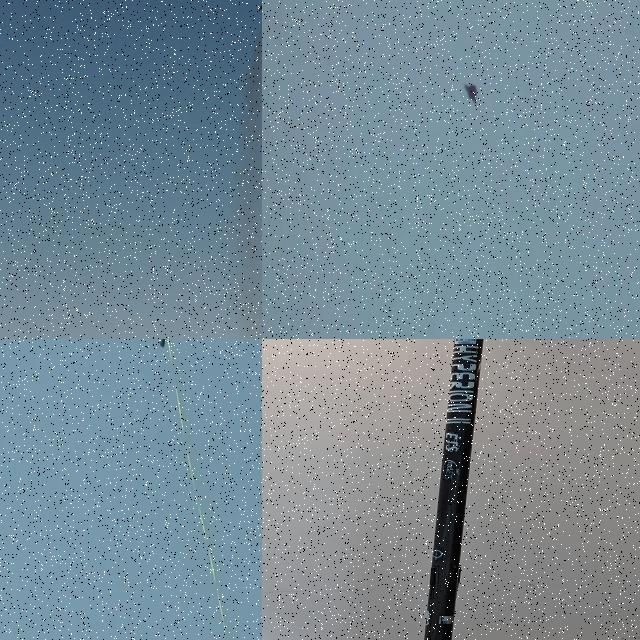Rocket: (424, 339, 484, 640)
